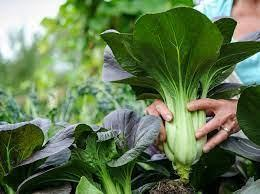Healthy-Pechay: (105, 7, 258, 172)
